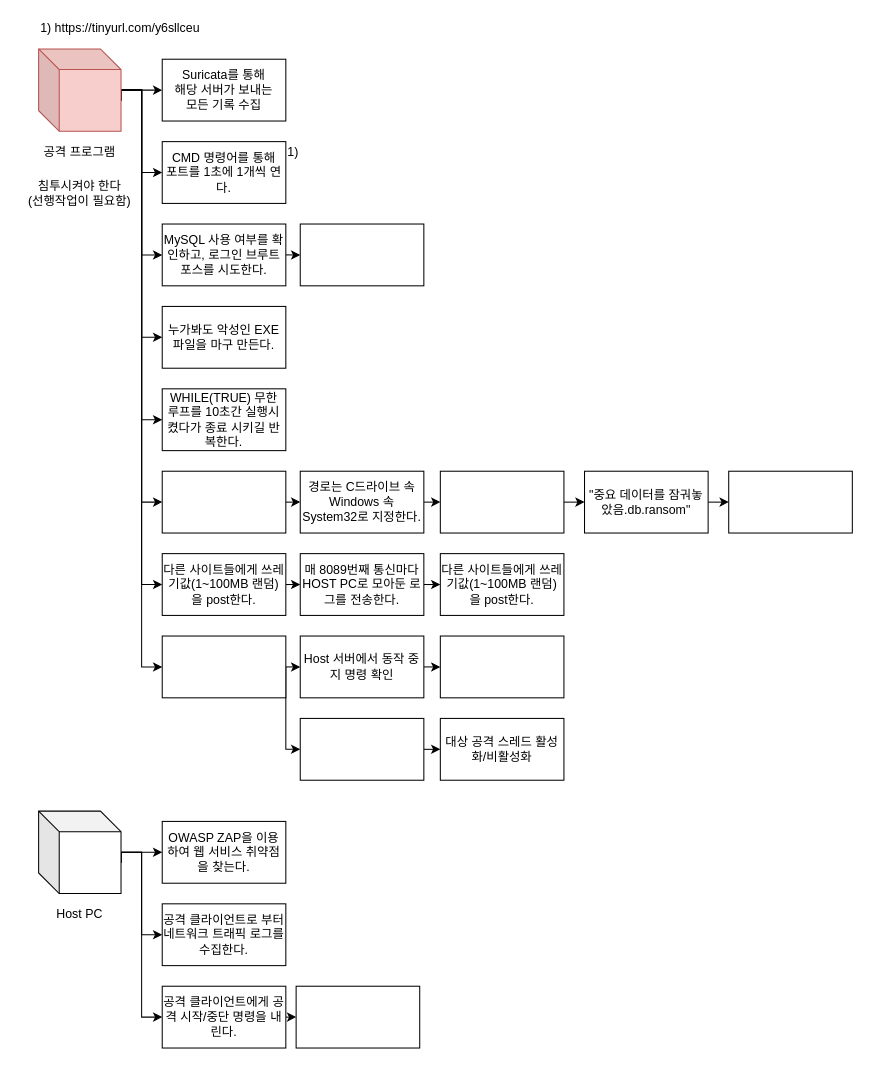
Some shapes in this 870 by 1066 pixel diagram are drawn without their labels. The shapes that lost their labels are listed below. From the top down, each one's box as (x1, y1, x2, y2) in pixels, then its label:
(299, 223, 424, 286): MySQL 로그인 성공 시 모든 데이터를 탈취 해 간다.
(161, 470, 286, 533): 랜섬웨어를 퍼뜨리되, 미리 생성한 파일만 대상으로 한다. (암호 분석에 시간 허비됨)
(439, 470, 564, 533): 감염 파일 이름을 도전정신을 불러일으키도록 변경한다.
(728, 470, 852, 533): 사실 그냥 txt 문서이며, 복호화 하여 열었을 때 '축하합니다'만 적혀 있도록.
(161, 635, 286, 698): Host 서버로 부터 명령을 기다린다.
(439, 635, 564, 698): 프로그램 종료 이후 자폭
(299, 717, 424, 780): 특정 공격 시작/중단 명령 확인
(295, 985, 420, 1048): 뜻을 알 수 없도록 0, 0, 0, 1, 1 이진 표기법을 쓰되, 암호화 통신도 병행한다.
